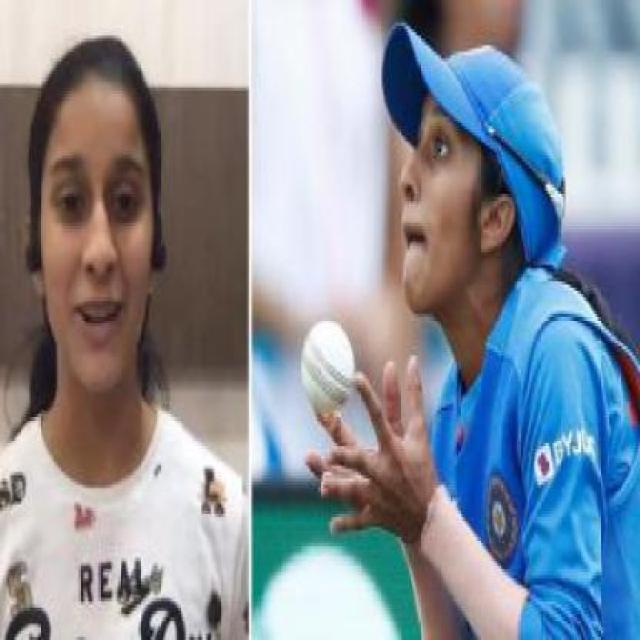ball: (275, 305, 377, 432)
